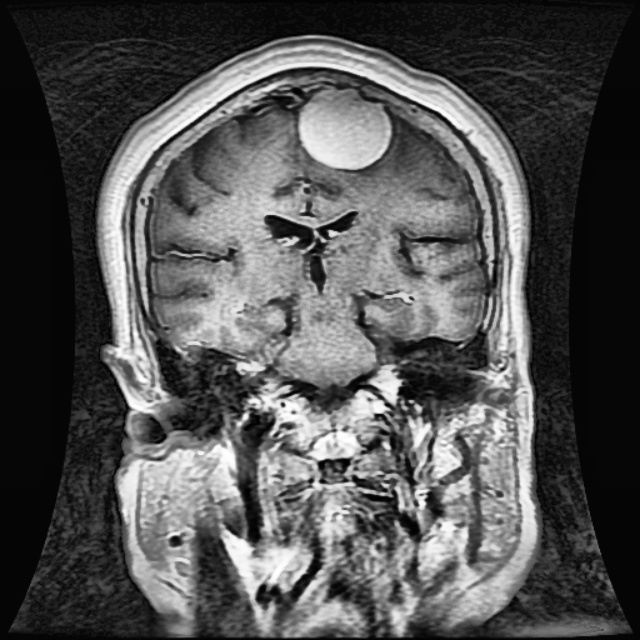Glioma: (298, 87, 389, 168)
